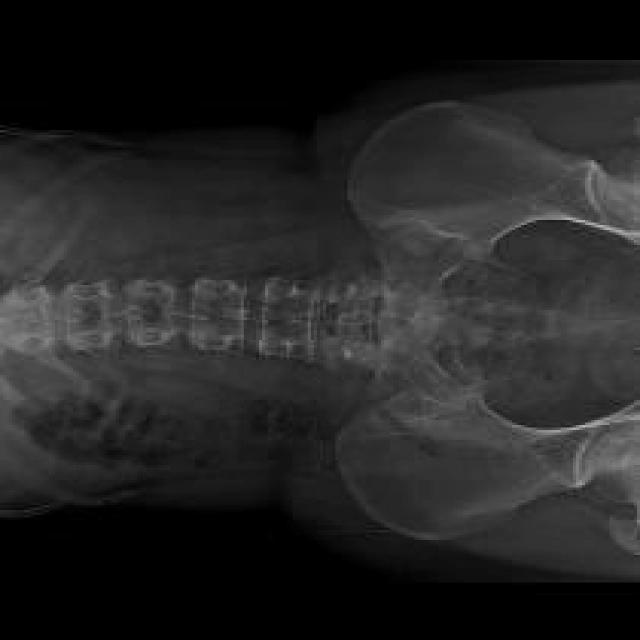normal: (3, 101, 638, 539)
